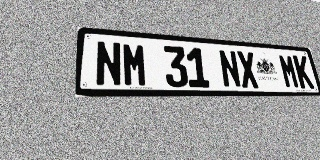1: (185, 47, 210, 88)
3: (163, 46, 189, 87)
K: (292, 55, 315, 89)
M: (122, 42, 148, 87), (278, 54, 300, 88)
N: (95, 40, 122, 87), (218, 50, 242, 88)
X: (236, 51, 260, 88)
